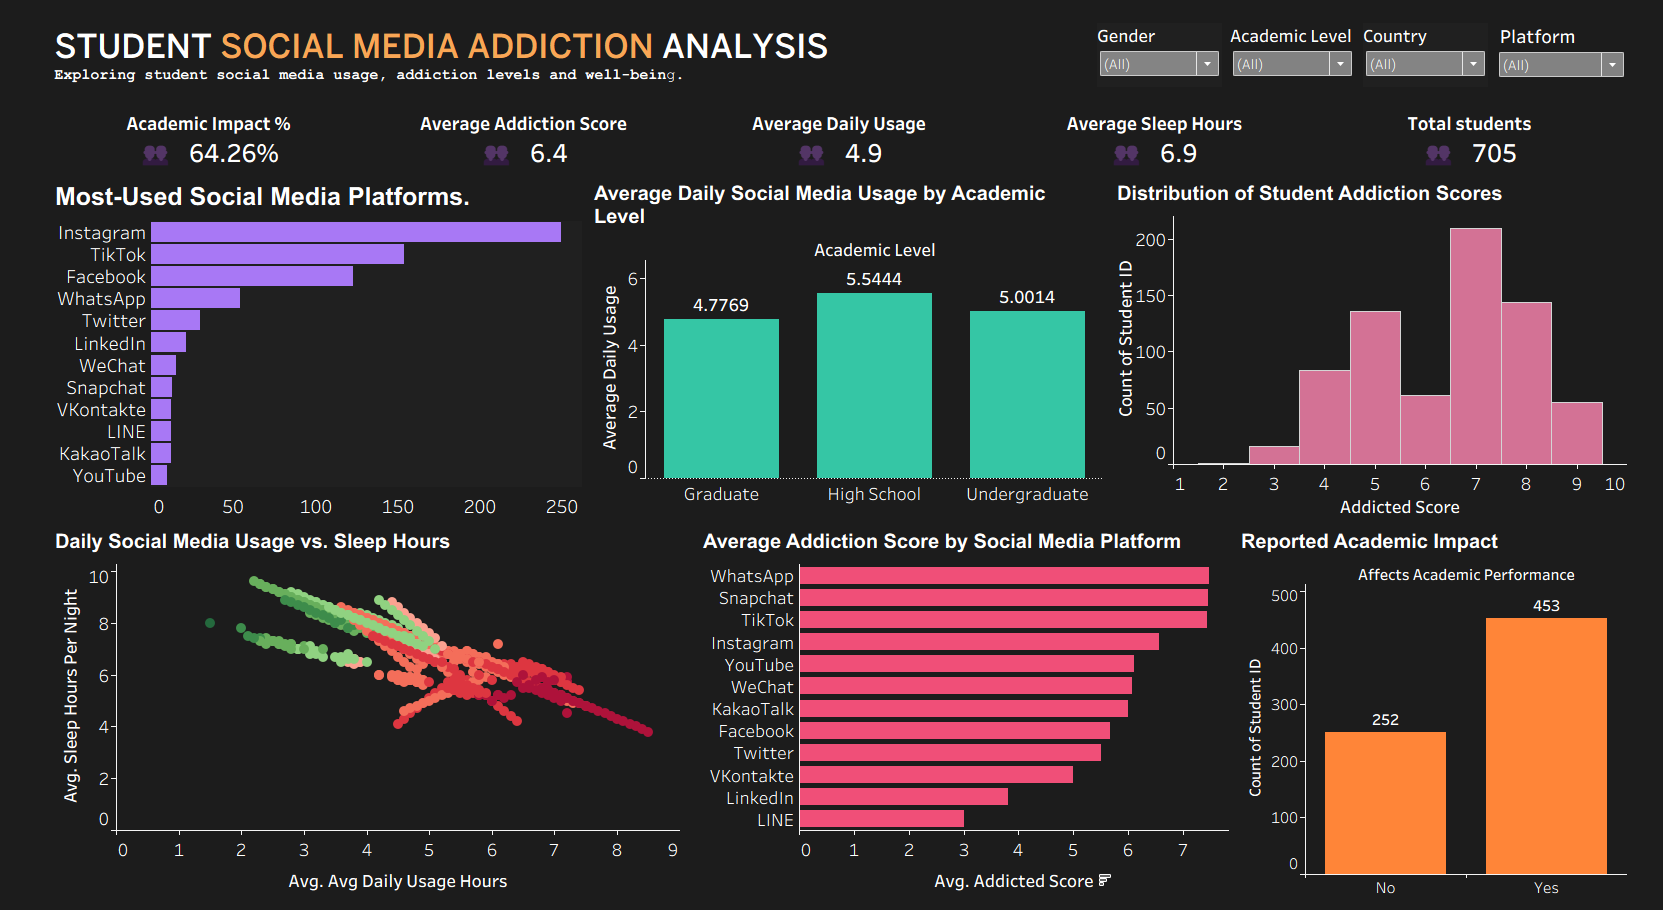

Layout of this report page (visuals, bound fields, positions):
{"tool":"tableau","page":{"name":"Student Usage Overview.","canvas":[1000,1000],"units":"permille","ordinal":0},"visuals":[{"type":"text","box":[5,9.4,653.8,79.9]},{"type":"filter","title":"Addiction Score Distribution","param":"[federated.1hq07yo0yxyq2t17i4wsd1a5bw6e].[none:Gender:nk]","box":[658.8,9.4,83.1,79.9]},{"type":"filter","title":"Usage by Academic Level.","param":"[federated.1hq07yo0yxyq2t17i4wsd1a5bw6e].[none:Academic_Level:nk]","box":[741.9,9.4,83.1,79.9]},{"type":"filter","title":"Addiction Score Distribution","param":"[federated.1hq07yo0yxyq2t17i4wsd1a5bw6e].[none:Country:nk]","box":[825,9.4,83.1,79.9]},{"type":"filter","title":"Platform Popularity","param":"[federated.1hq07yo0yxyq2t17i4wsd1a5bw6e].[none:Most_Used_Platform:nk]","box":[908.1,9.4,86.9,79.9]},{"type":"worksheet","title":"Sheet 12","mark":"Automatic","box":[5,89.3,990,92.1]},{"type":"worksheet","title":"Platform Popularity","mark":"Bar","rows":["Most_Used_Platform"],"cols":["Student_ID"],"box":[5,181.4,337.2,386.3]},{"type":"worksheet","title":"Usage by Academic Level.","mark":"Automatic","rows":["Calculation_1219414792310785"],"cols":["Academic_Level"],"box":[342.2,181.4,326.4,386.3]},{"type":"worksheet","title":"Addiction Score Distribution","mark":"Bar","rows":["Student_ID"],"cols":["Addicted_Score"],"box":[668.6,181.4,326.4,386.3]},{"type":"worksheet","title":"Usage vs Sleep Hours","mark":"Circle","rows":["Sleep_Hours_Per_Night"],"cols":["Avg_Daily_Usage_Hours"],"box":[5,567.7,398.1,422.9]},{"type":"legend","title":"Usage vs Sleep Hours","param":"[federated.1hq07yo0yxyq2t17i4wsd1a5bw6e].[avg:Addicted_Score:qk]","box":[403.1,567.7,6.9,422.9]},{"type":"worksheet","title":"Addiction by Platform.","mark":"Automatic","rows":["Most_Used_Platform"],"cols":["Addicted_Score"],"box":[409.9,567.7,336.3,422.9]},{"type":"worksheet","title":"Reported Academic Impact","mark":"Bar","rows":["Student_ID"],"cols":["Affects_Academic_Performance"],"box":[746.2,567.7,248.8,422.9]}]}

Visuals, with their boxes on the dashboard's canvas, which has no fixed pixel size, in thousandths of its width and height (x1, y1, x2, y2). These are canvas units, not pixel positions in the 1663x910 screenshot, which may show the page scaled, cropped or inside an application window:
text: BBox(5, 9, 659, 89)
"Addiction Score Distribution" filter: BBox(659, 9, 742, 89)
"Usage by Academic Level." filter: BBox(742, 9, 825, 89)
"Addiction Score Distribution" filter: BBox(825, 9, 908, 89)
"Platform Popularity" filter: BBox(908, 9, 995, 89)
"Sheet 12" worksheet: BBox(5, 89, 995, 181)
"Platform Popularity" worksheet (Bar marks): BBox(5, 181, 342, 568)
"Usage by Academic Level." worksheet: BBox(342, 181, 669, 568)
"Addiction Score Distribution" worksheet (Bar marks): BBox(669, 181, 995, 568)
"Usage vs Sleep Hours" worksheet (Circle marks): BBox(5, 568, 403, 991)
"Usage vs Sleep Hours" legend: BBox(403, 568, 410, 991)
"Addiction by Platform." worksheet: BBox(410, 568, 746, 991)
"Reported Academic Impact" worksheet (Bar marks): BBox(746, 568, 995, 991)
